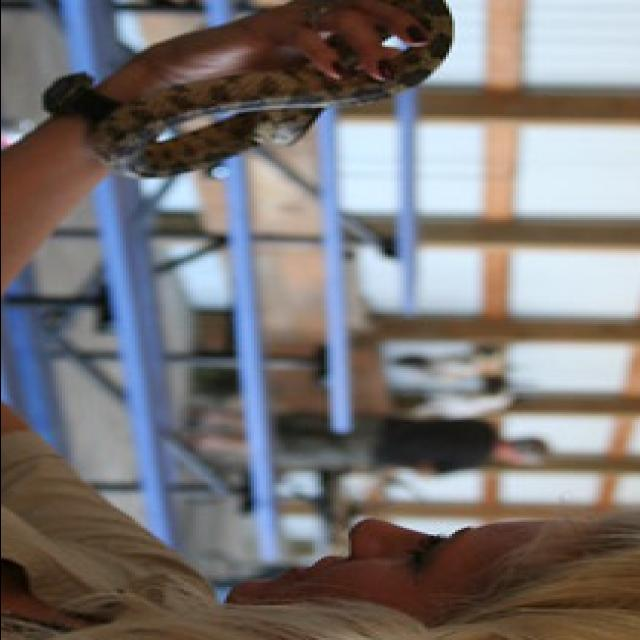snake: (43, 0, 461, 179)
